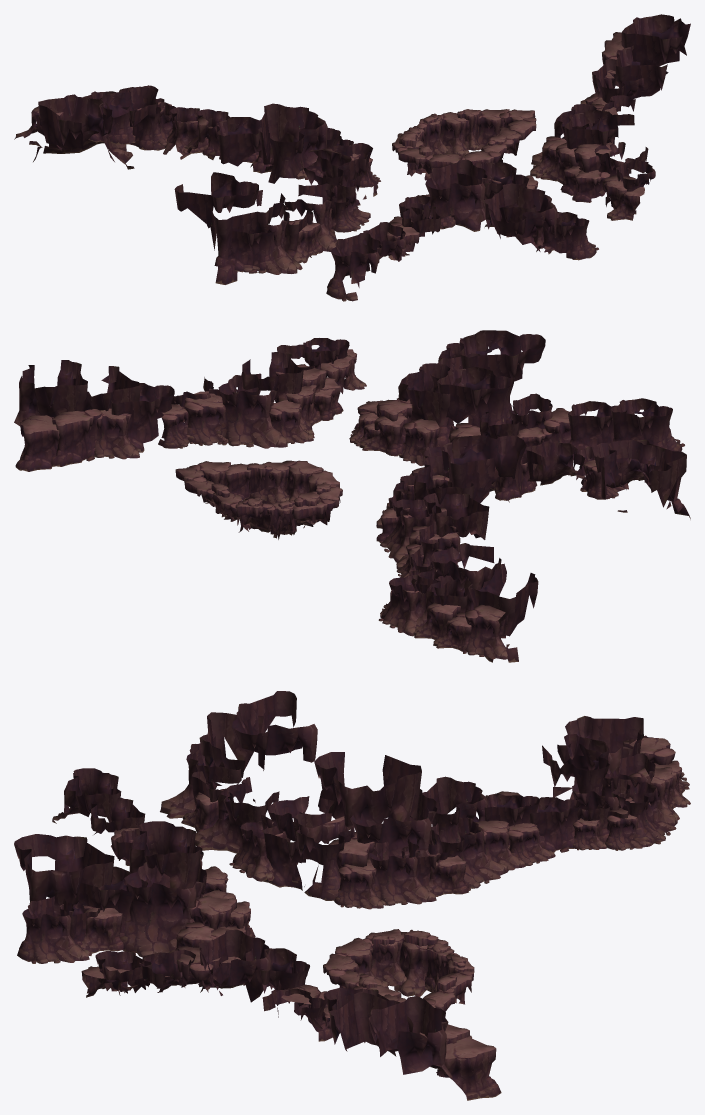
The model's file is area15_shiqiang_02.FBX.
3 renders of one model, top to bottom at view 1: azimuth 30°, elevation 25°; view 2: azimuth 150°, elevation 25°; view 3: azimuth 270°, elevation 25°, orthographic. The views are drawn at different scales.
Visible parts, largest first — view 1: area15_shiqiang_02; view 2: area15_shiqiang_02; view 3: area15_shiqiang_02.
Boxes of the visible parts, x1,y1,x2,y2 form: area15_shiqiang_02: (14, 14, 690, 301); area15_shiqiang_02: (14, 330, 690, 662); area15_shiqiang_02: (14, 691, 690, 1100).
Size of the model in its own units: 16227 by 2849 by 13546.
